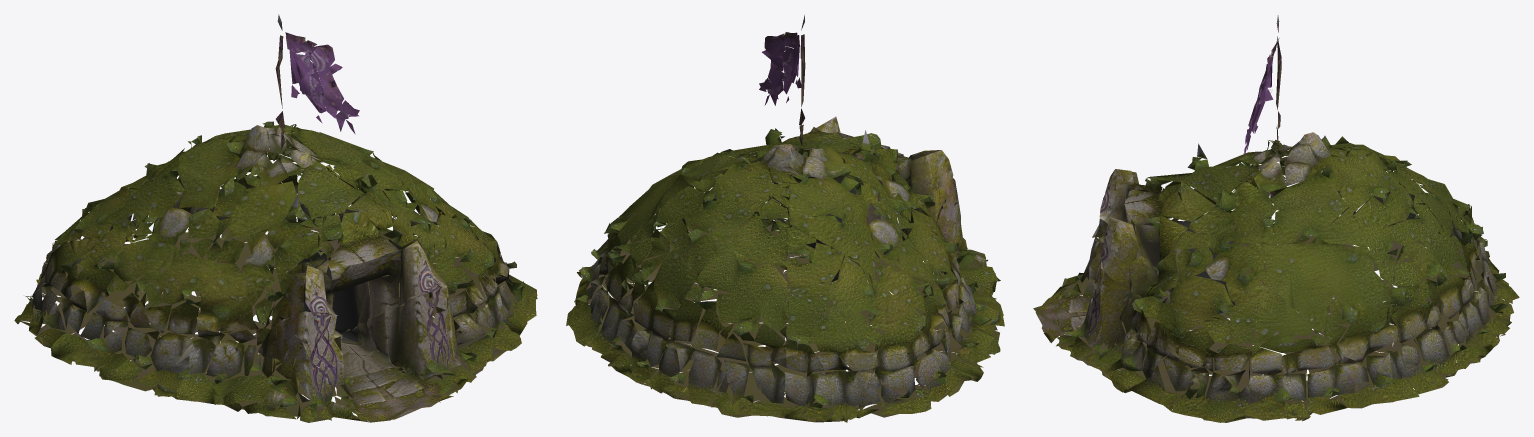
The model's file is BurialMound.fbx.
3 renders of one model, left to right at view 1: azimuth 30°, elevation 25°; view 2: azimuth 150°, elevation 25°; view 3: azimuth 270°, elevation 25°, orthographic. The views are drawn at different scales.
Visible parts, largest first — view 1: BurialMound_Body; view 2: BurialMound_Body; view 3: BurialMound_Body.
Part boxes in pixels (x1,y1,x2,y2): BurialMound_Body: (14, 14, 537, 422); BurialMound_Body: (566, 15, 1004, 422); BurialMound_Body: (1033, 15, 1519, 422).
Size of the model in its own units: 1.36 by 0.9558 by 1.37.
Materials: 1 (1 with a texture image).
